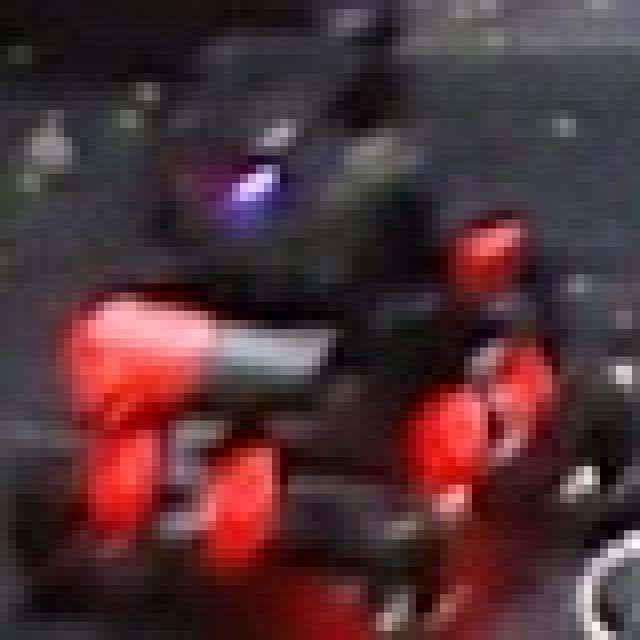R5: (68, 384, 284, 567), (408, 302, 568, 512)
